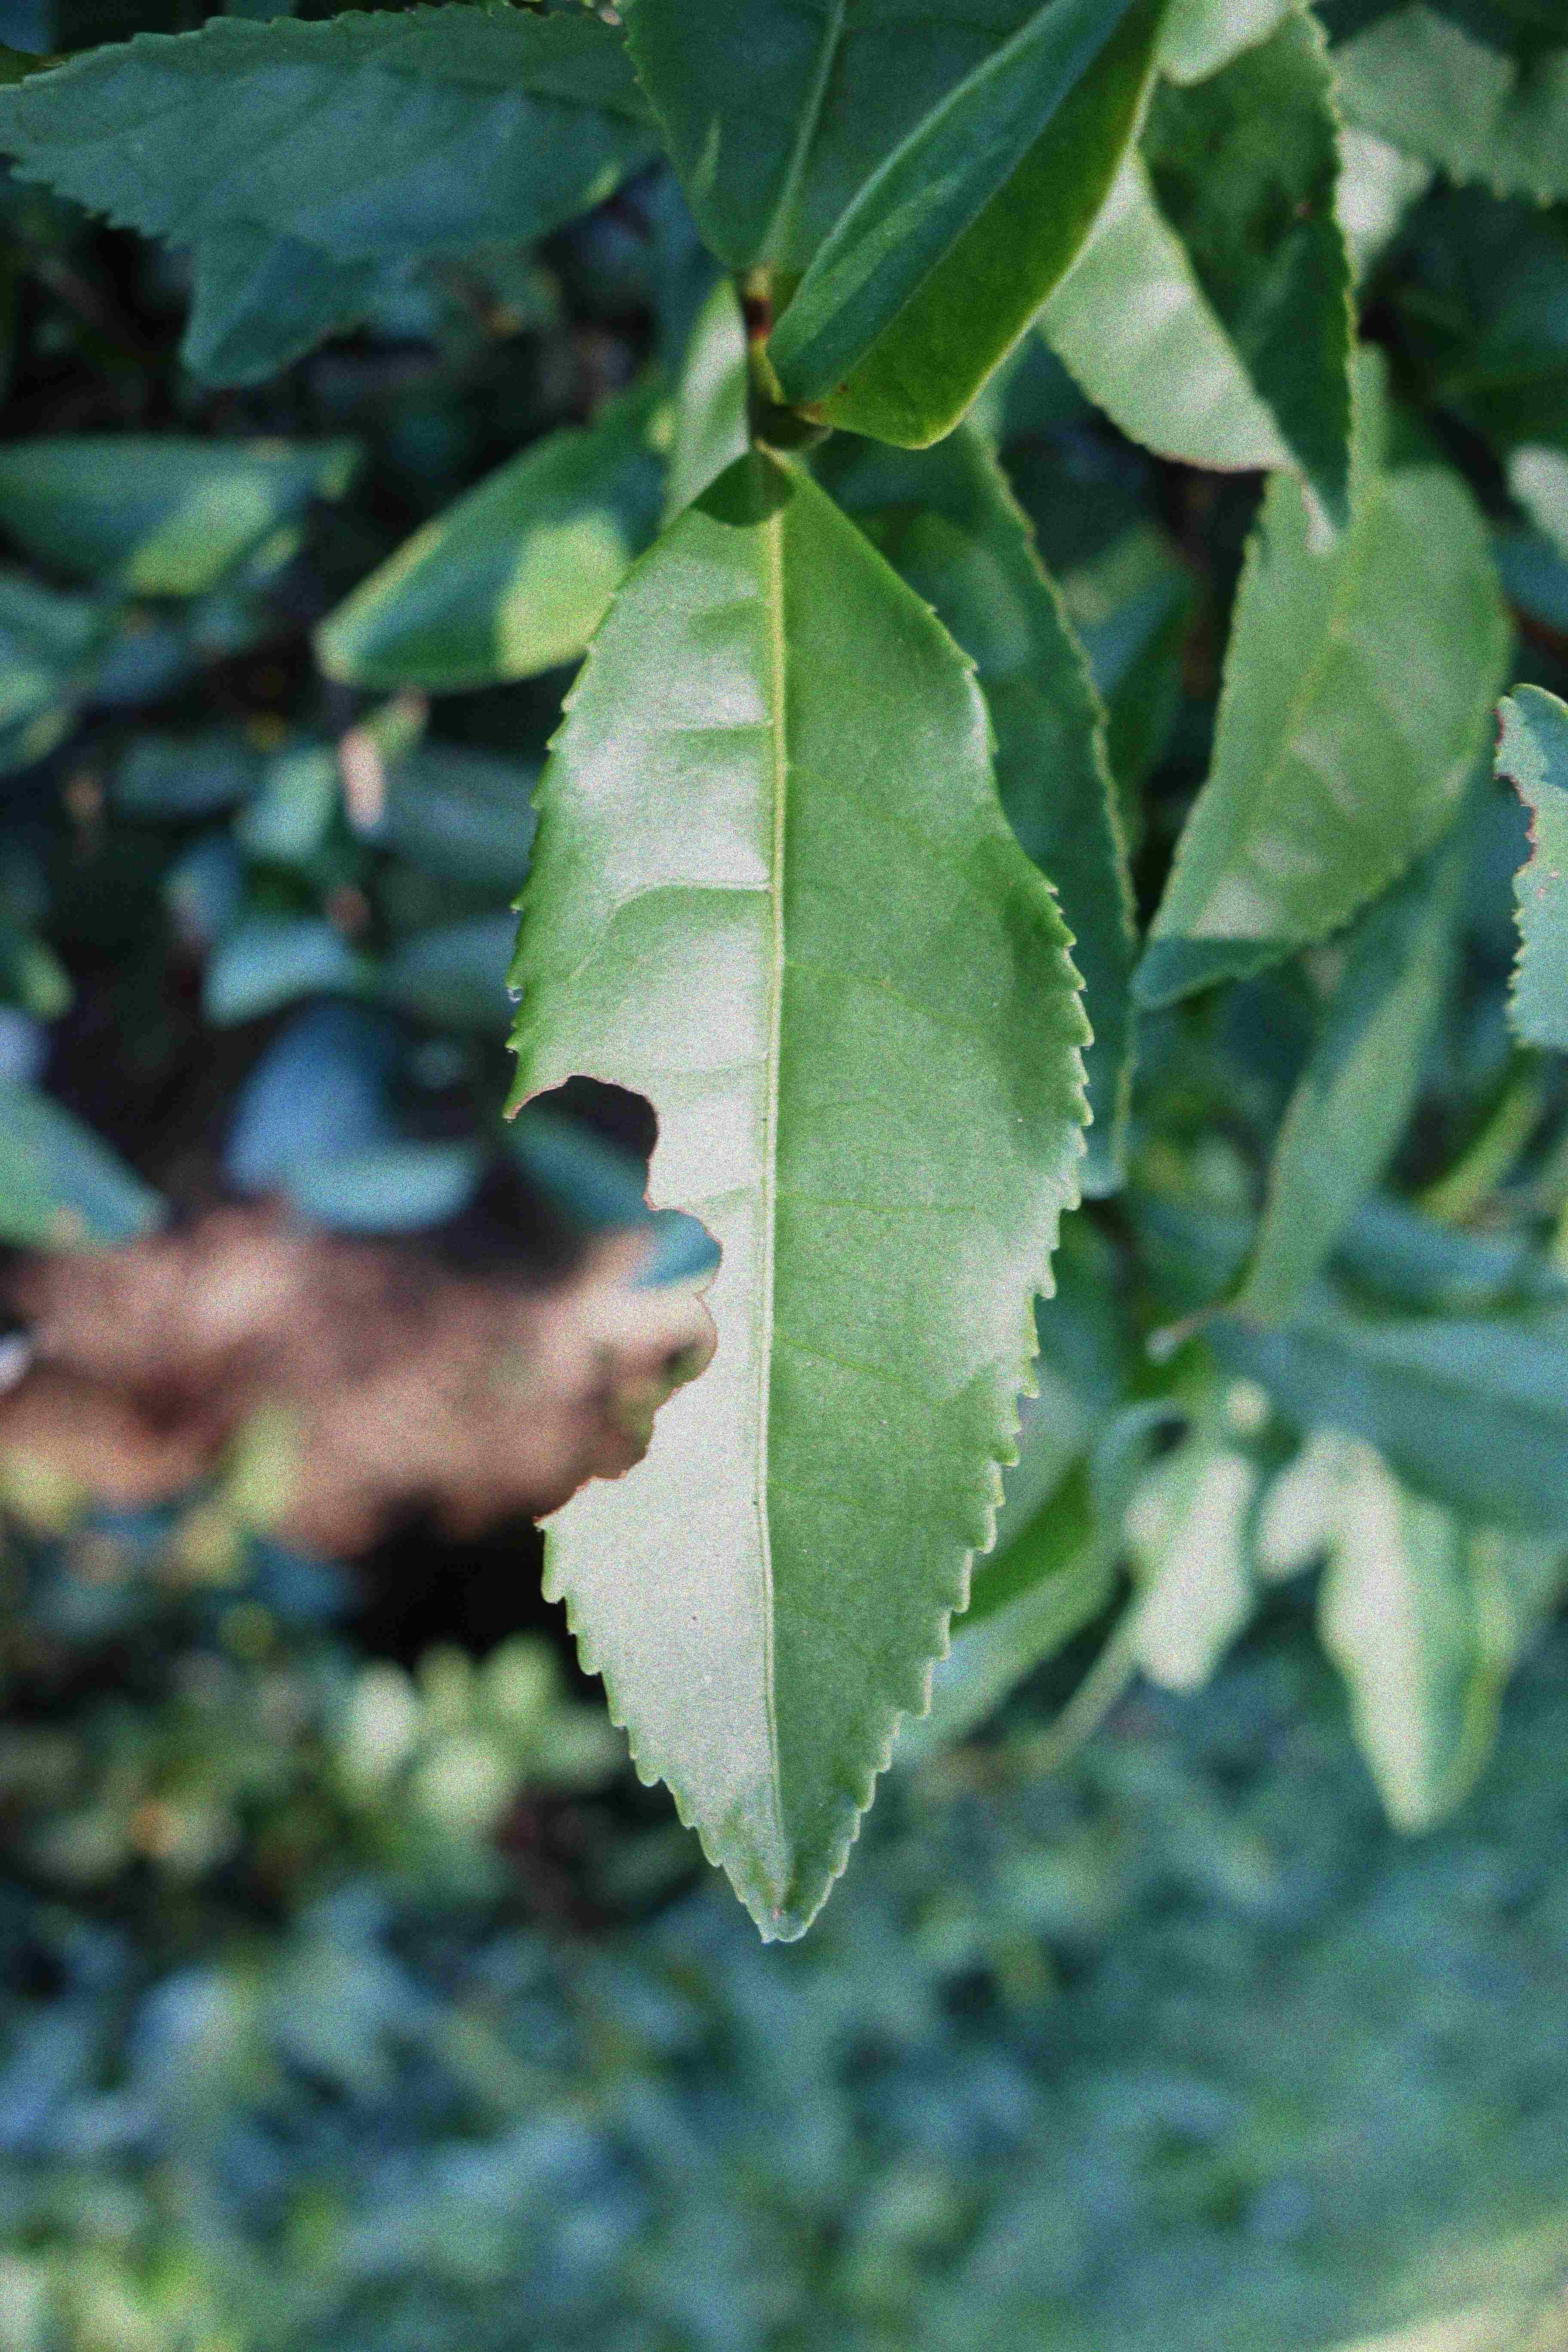chihuo_low: (495, 444, 1101, 1939)
